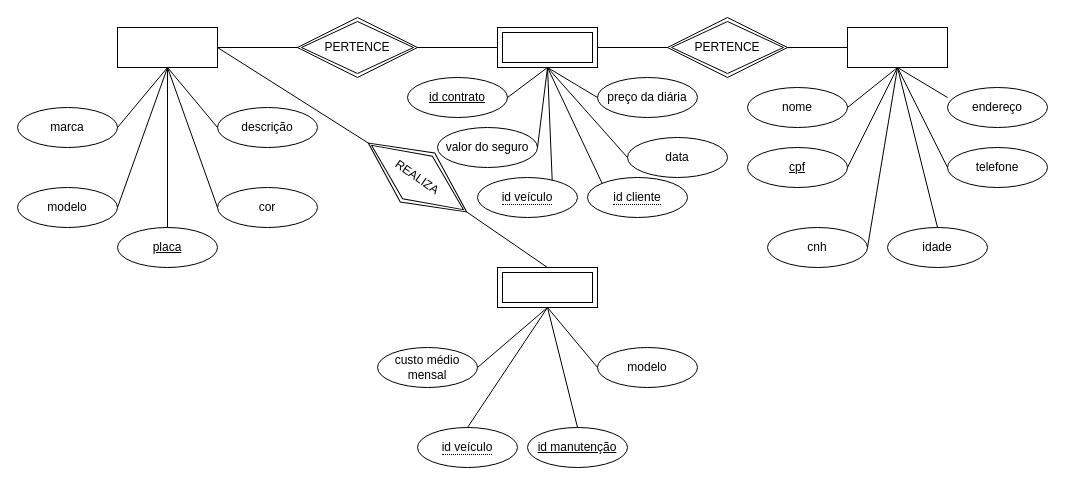
Some shapes in this 1065 by 485 pixel diagram are drawn without their labels. Here are the shapes that lost their labels. From the top down, the box of each, then its label:
(116, 26, 218, 68): VEÍCULO
(496, 26, 598, 68): CONTRATO
(846, 26, 948, 68): CLIENTE
(496, 266, 598, 308): MANUTENÇÃO
